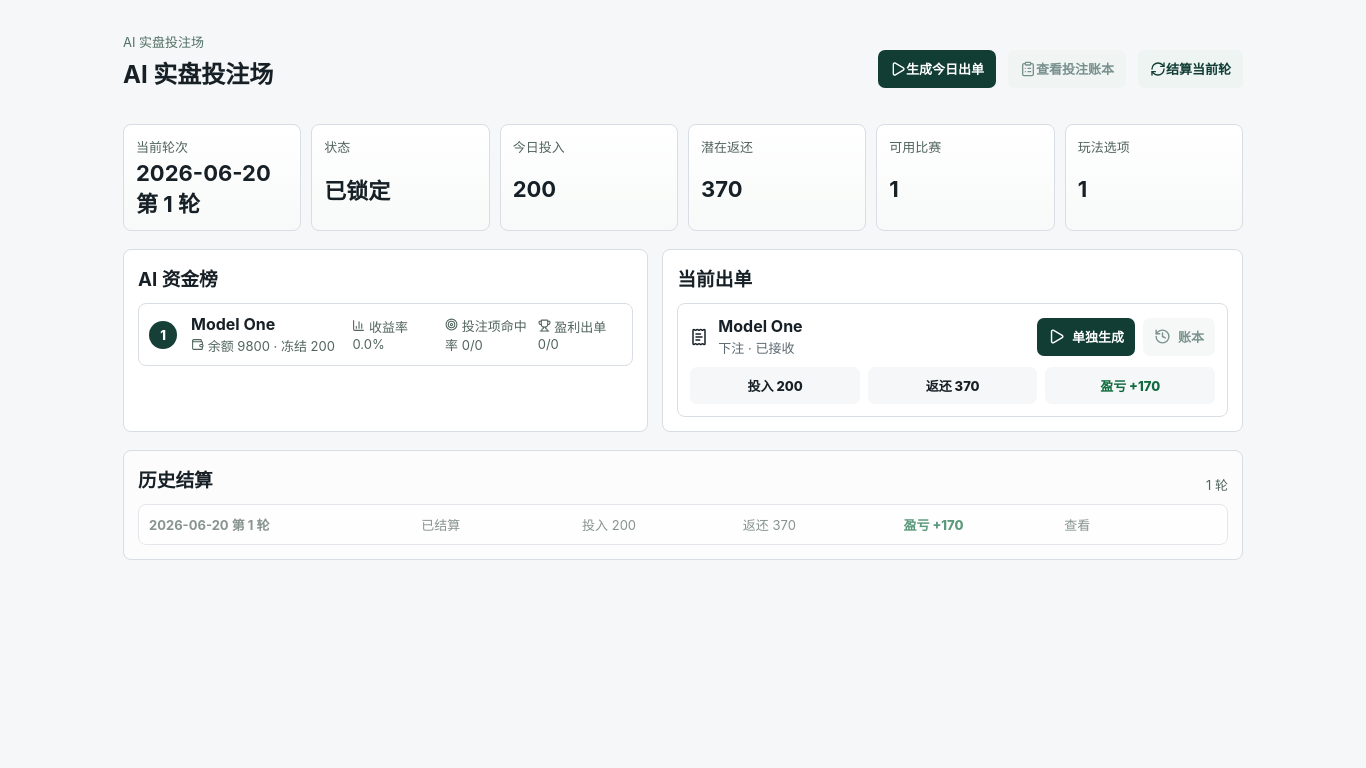
Test: BettingArenaPage › shows readable parlay structure in model slip details
What coordinates should you click on to do the following:
click the button with aria-label "Model One 投注详情"
I would click on:
 (760, 326)
Its box is [690,316,1027,357].
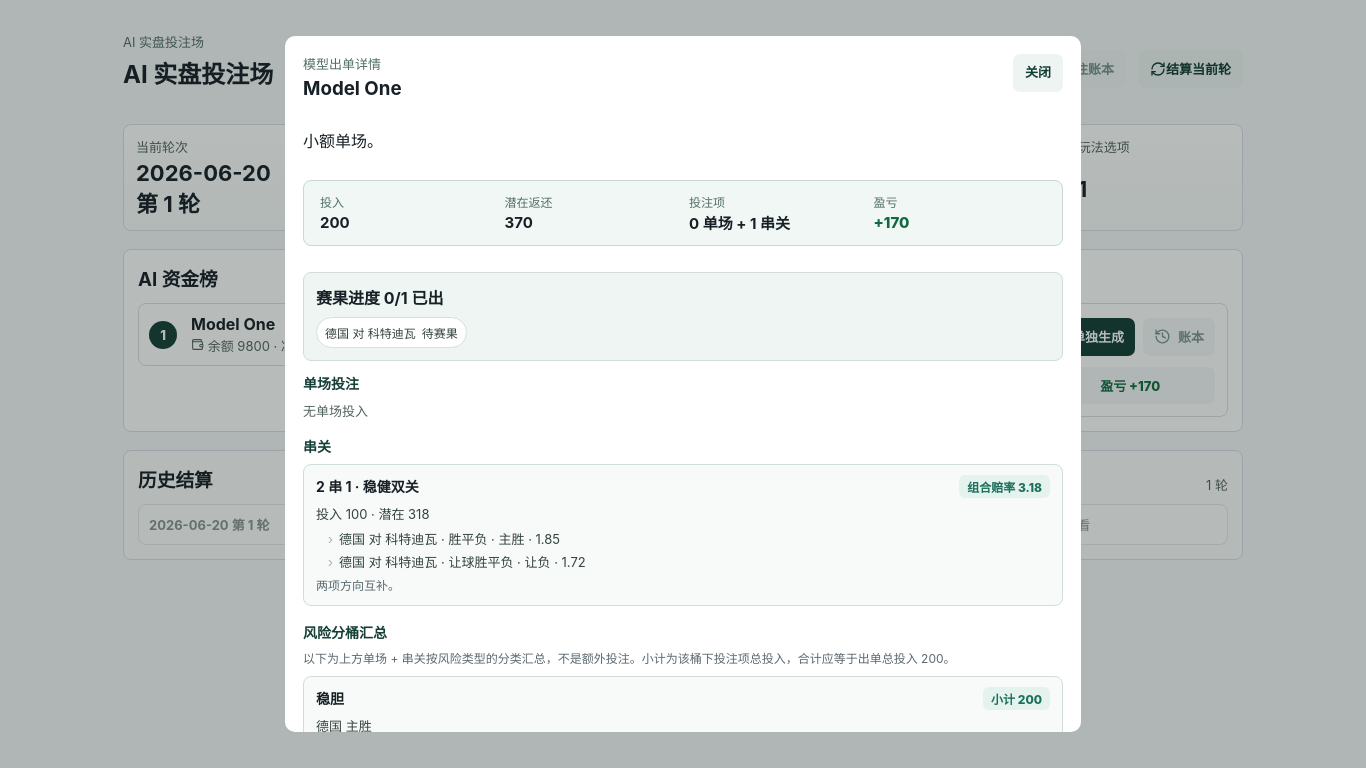
Result: the text "2 串 1 · 稳健双关" is shown at [316,476,419,496]
Result: the text "组合赔率 3.18" is shown at [959,475,1050,498]
Result: the text "投入 100 · 潜在 318" is shown at [316,504,430,523]
